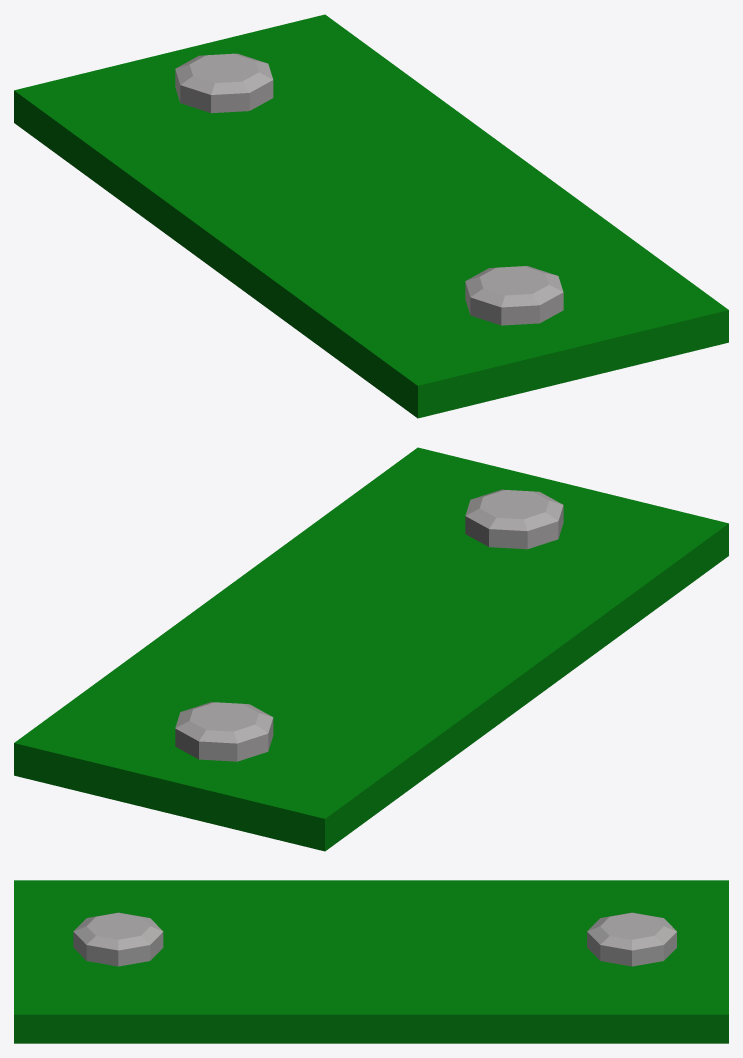
Rendered from Xylophone_04.fbx.
3 views of the same model, one above another, from view 1: azimuth 30°, elevation 25°; view 2: azimuth 150°, elevation 25°; view 3: azimuth 270°, elevation 25° (orthographic). The views are drawn at different scales.
Parts seen in each view (by area): view 1: Xylophone_04; view 2: Xylophone_04; view 3: Xylophone_04.
Part boxes in pixels (x1,y1,x2,y2): Xylophone_04: (14,14,728,418); Xylophone_04: (14,447,728,851); Xylophone_04: (14,880,728,1043).
Bounding box in the file's own units: 100 × 17.38 × 225.
